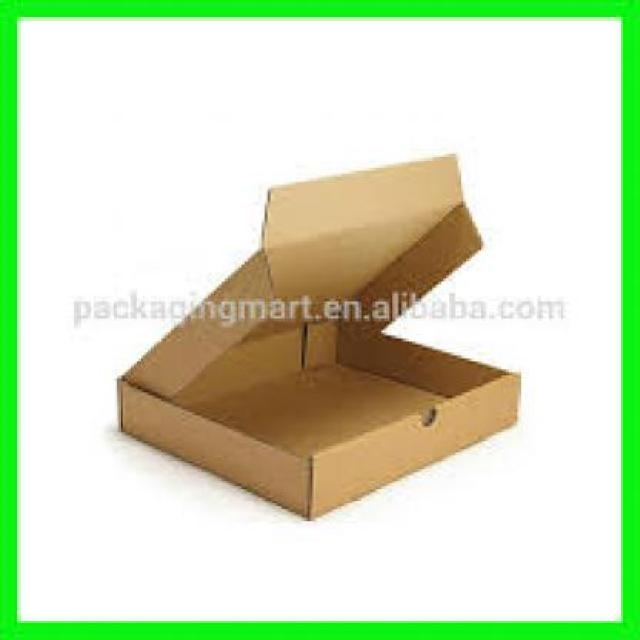CARDBOARD: (116, 150, 518, 518)
